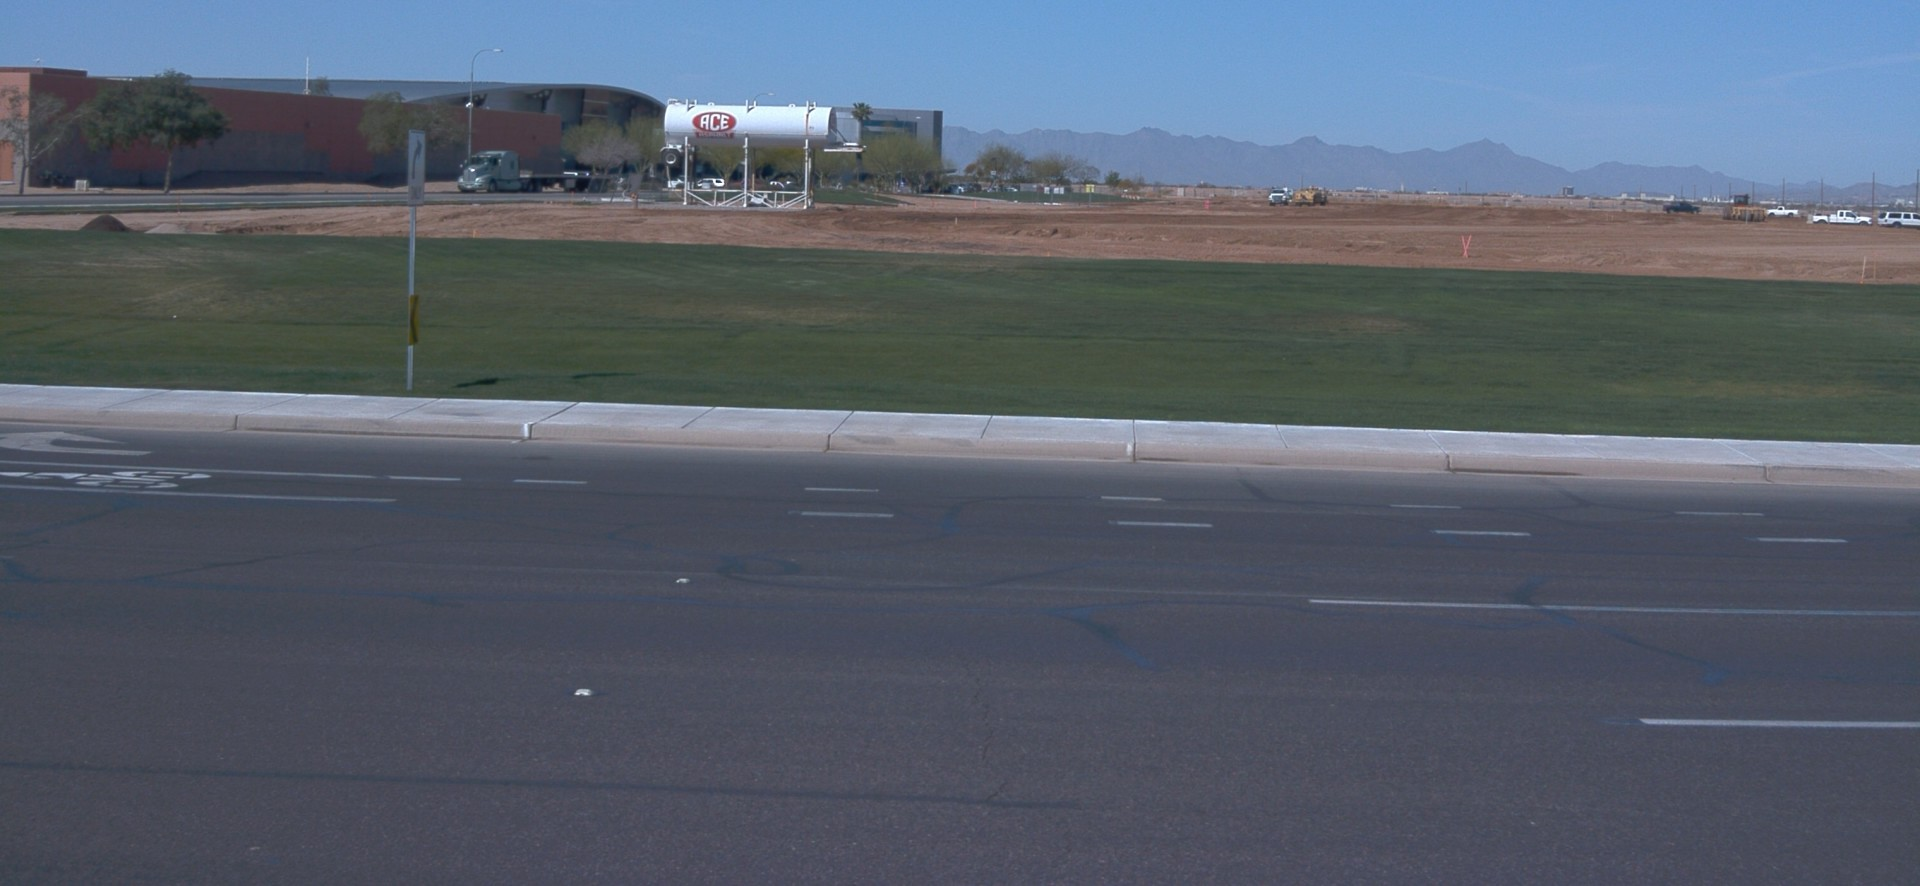TYPE_VEHICLE: (451, 149, 617, 199), (1723, 190, 1767, 223), (1813, 208, 1876, 225), (1286, 184, 1327, 205), (1878, 210, 1920, 229), (1662, 200, 1702, 213), (1768, 205, 1801, 218), (1268, 188, 1289, 207), (697, 180, 728, 191), (562, 171, 580, 177), (770, 183, 784, 189)
